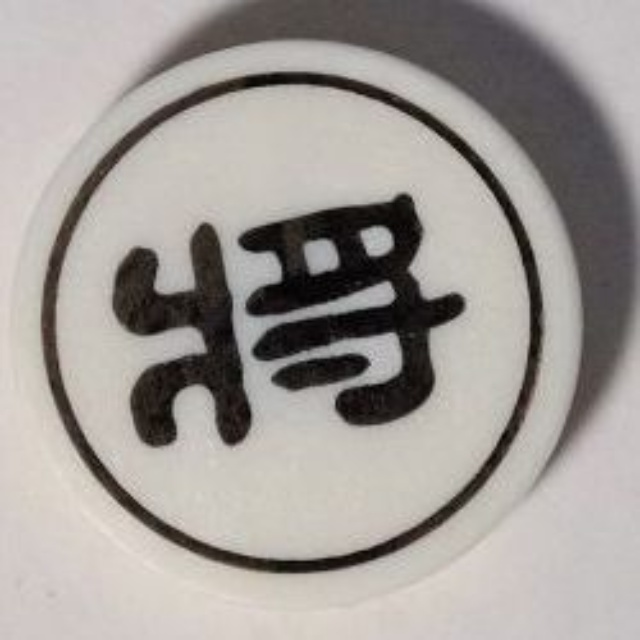black_tuong: (4, 36, 595, 587)
